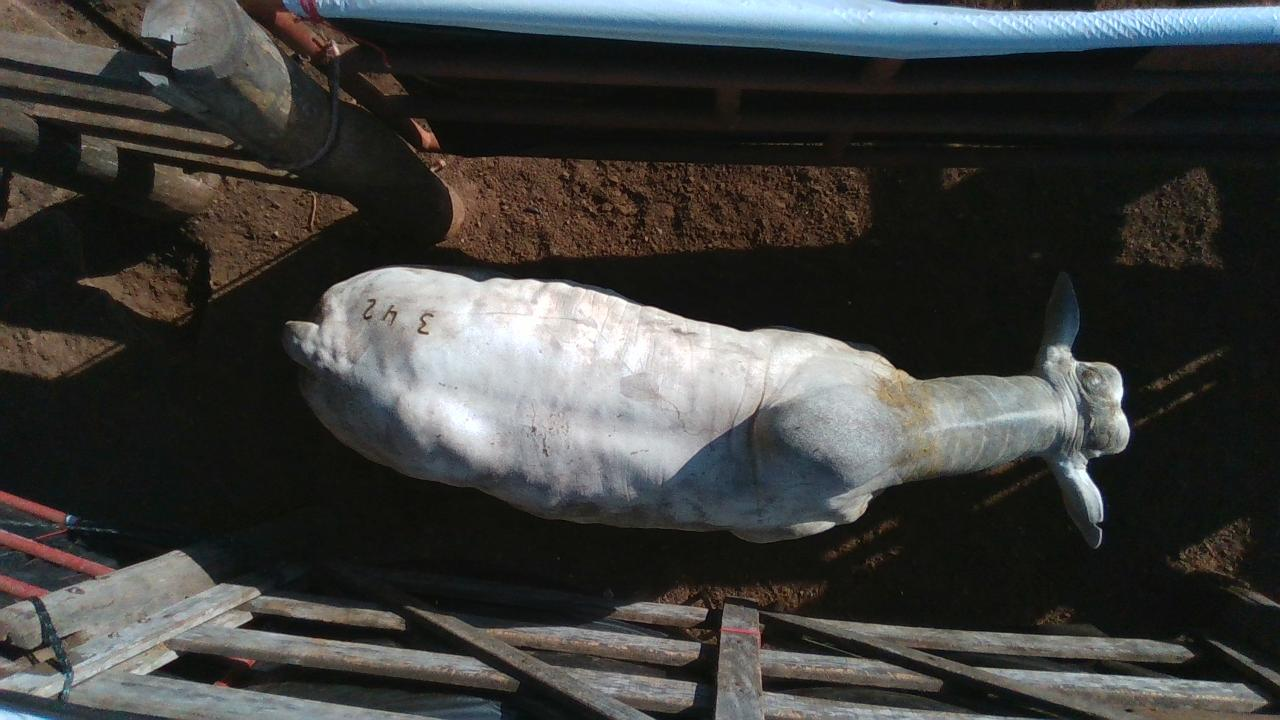cattle: (280, 262, 1132, 550)
